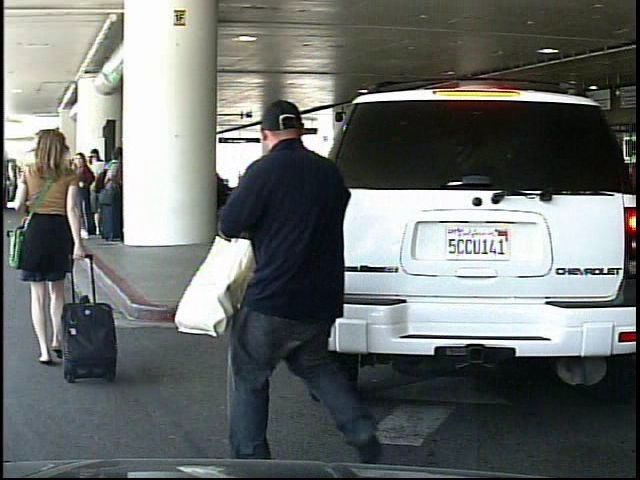person: (221, 91, 382, 467), (5, 126, 97, 393)
